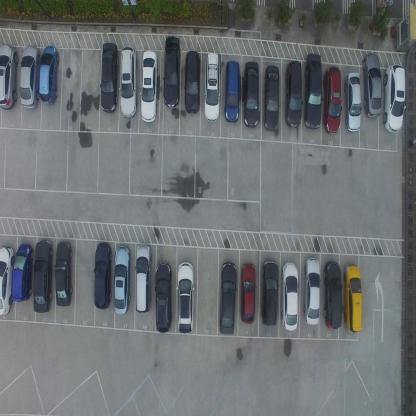car: (382, 62, 406, 134), (33, 239, 53, 316), (303, 53, 323, 130), (140, 50, 160, 124), (342, 262, 363, 331), (361, 52, 382, 120), (162, 35, 181, 109), (100, 42, 119, 115), (19, 44, 40, 110), (322, 260, 342, 328), (176, 260, 194, 335), (220, 260, 238, 334), (154, 262, 173, 332), (38, 44, 60, 104), (93, 241, 112, 310), (120, 46, 138, 118), (134, 242, 152, 314), (113, 244, 131, 316), (281, 260, 299, 332), (203, 51, 221, 122), (285, 58, 303, 128), (302, 255, 320, 325), (324, 64, 342, 134), (54, 242, 73, 308), (0, 43, 18, 111), (262, 259, 280, 326), (263, 63, 280, 133), (243, 59, 260, 128), (13, 245, 33, 302), (344, 70, 362, 132), (184, 50, 201, 115), (224, 60, 241, 123), (240, 261, 257, 324), (0, 243, 14, 317)
